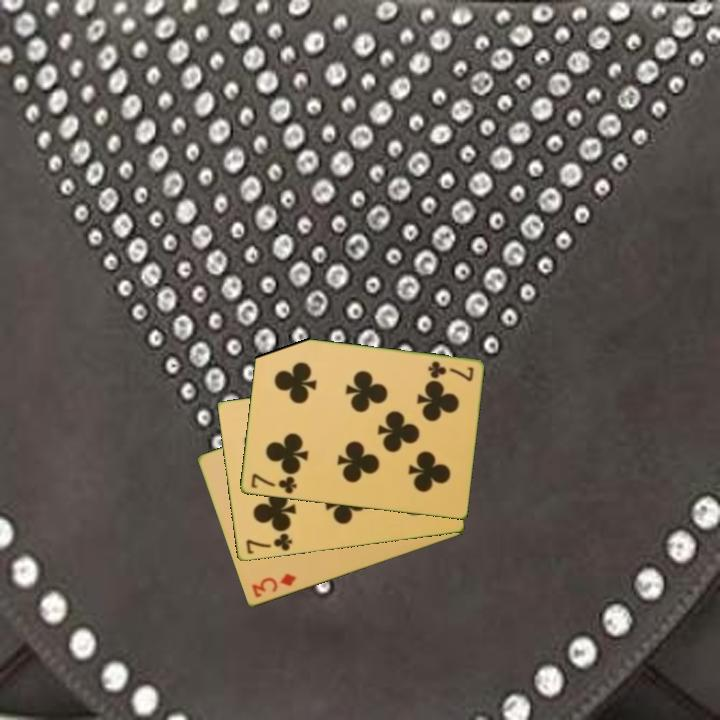3d: (248, 570, 299, 601)
7c: (242, 530, 295, 557), (247, 470, 299, 497), (424, 358, 476, 384)
